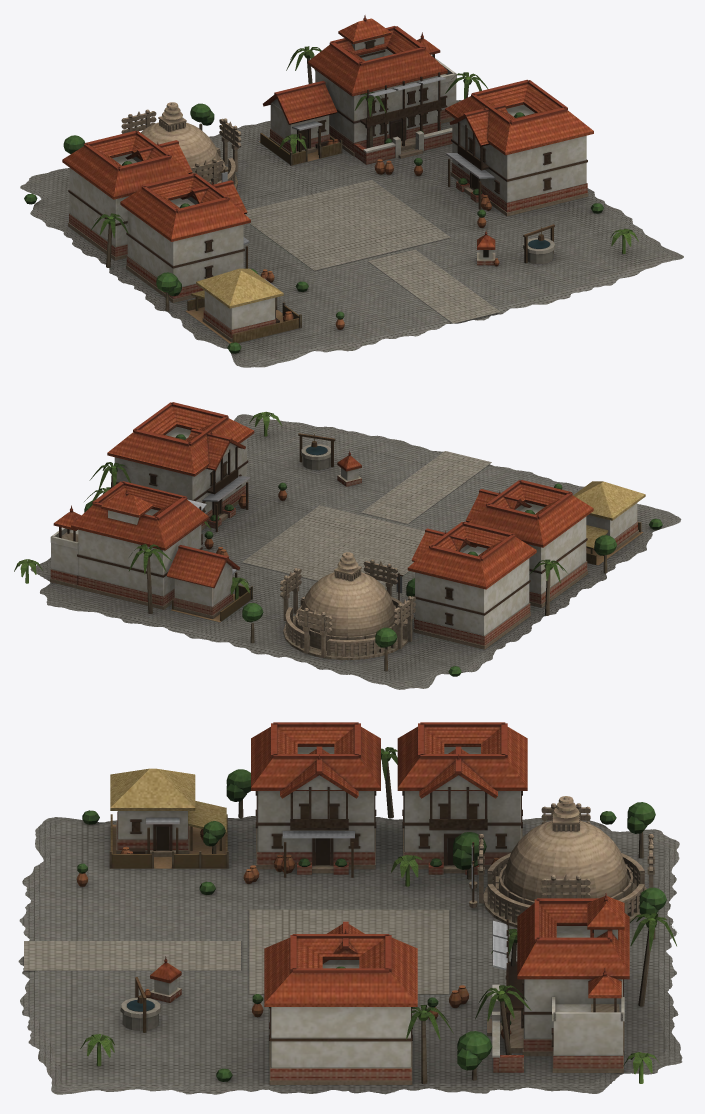
The model's file is classical-town-small-a-indic.glb.
The picture shows the model from 3 angles, top to bottom: view 1: azimuth 30°, elevation 25°; view 2: azimuth 150°, elevation 25°; view 3: azimuth 270°, elevation 25°; orthographic projection. The views are drawn at different scales.
Parts seen in each view (by area): view 1: LOD0; view 2: LOD0; view 3: LOD0.
Part boxes in pixels (x1,y1,x2,y2): LOD0: (20, 15, 683, 367); LOD0: (14, 402, 681, 689); LOD0: (18, 722, 682, 1094).
Size of what is drawn, in the model's own units: 4.08 by 0.934 by 4.06.
3 materials, 3 textured.
